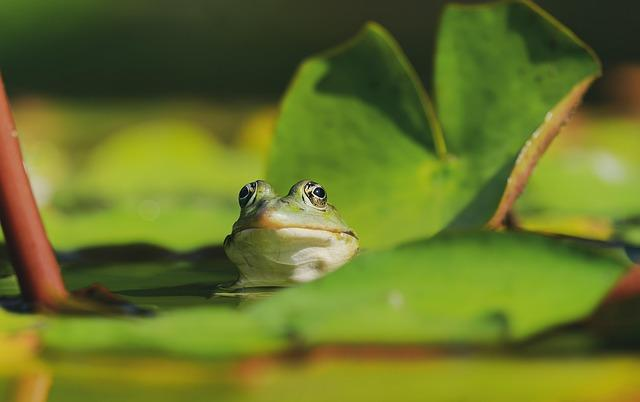Non_Gorille: (92, 42, 514, 352)
